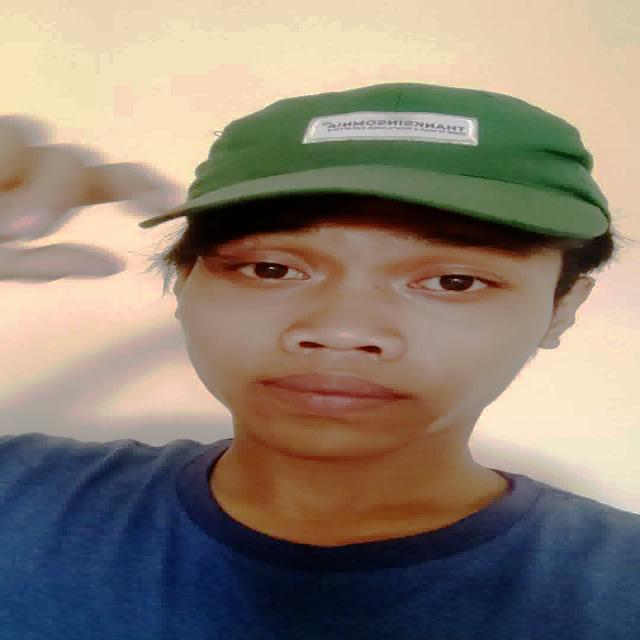TOPI: (156, 73, 613, 245)
